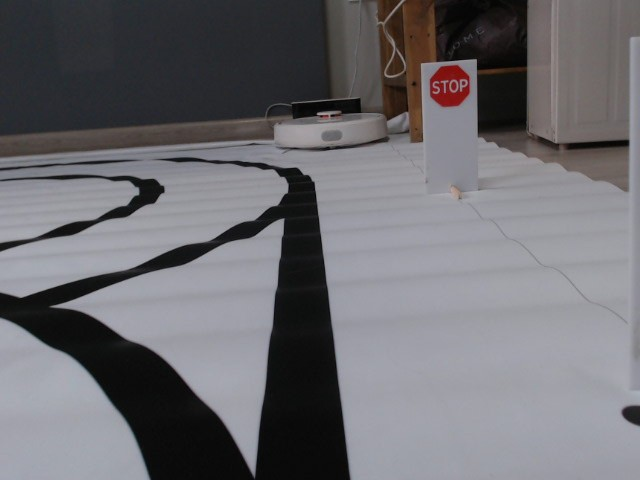Stop: (428, 64, 472, 108)
